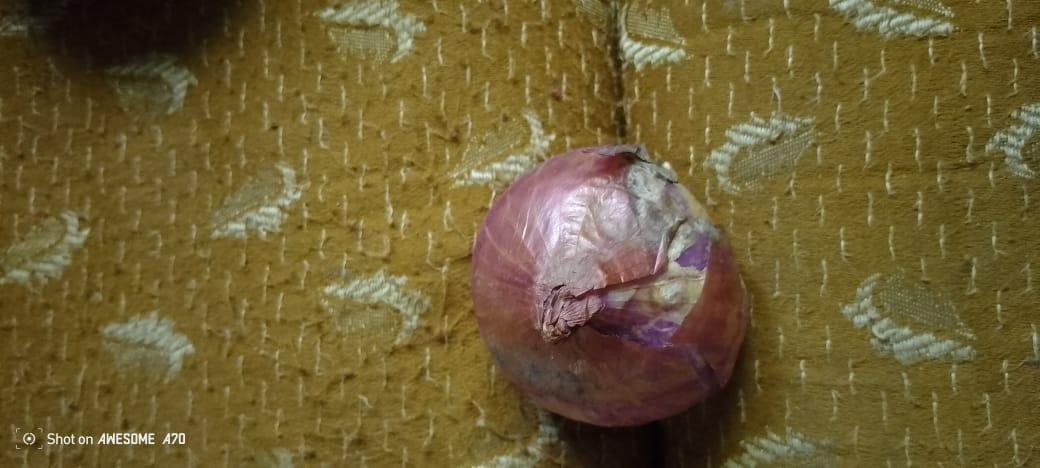non-mango: (469, 142, 751, 426)
